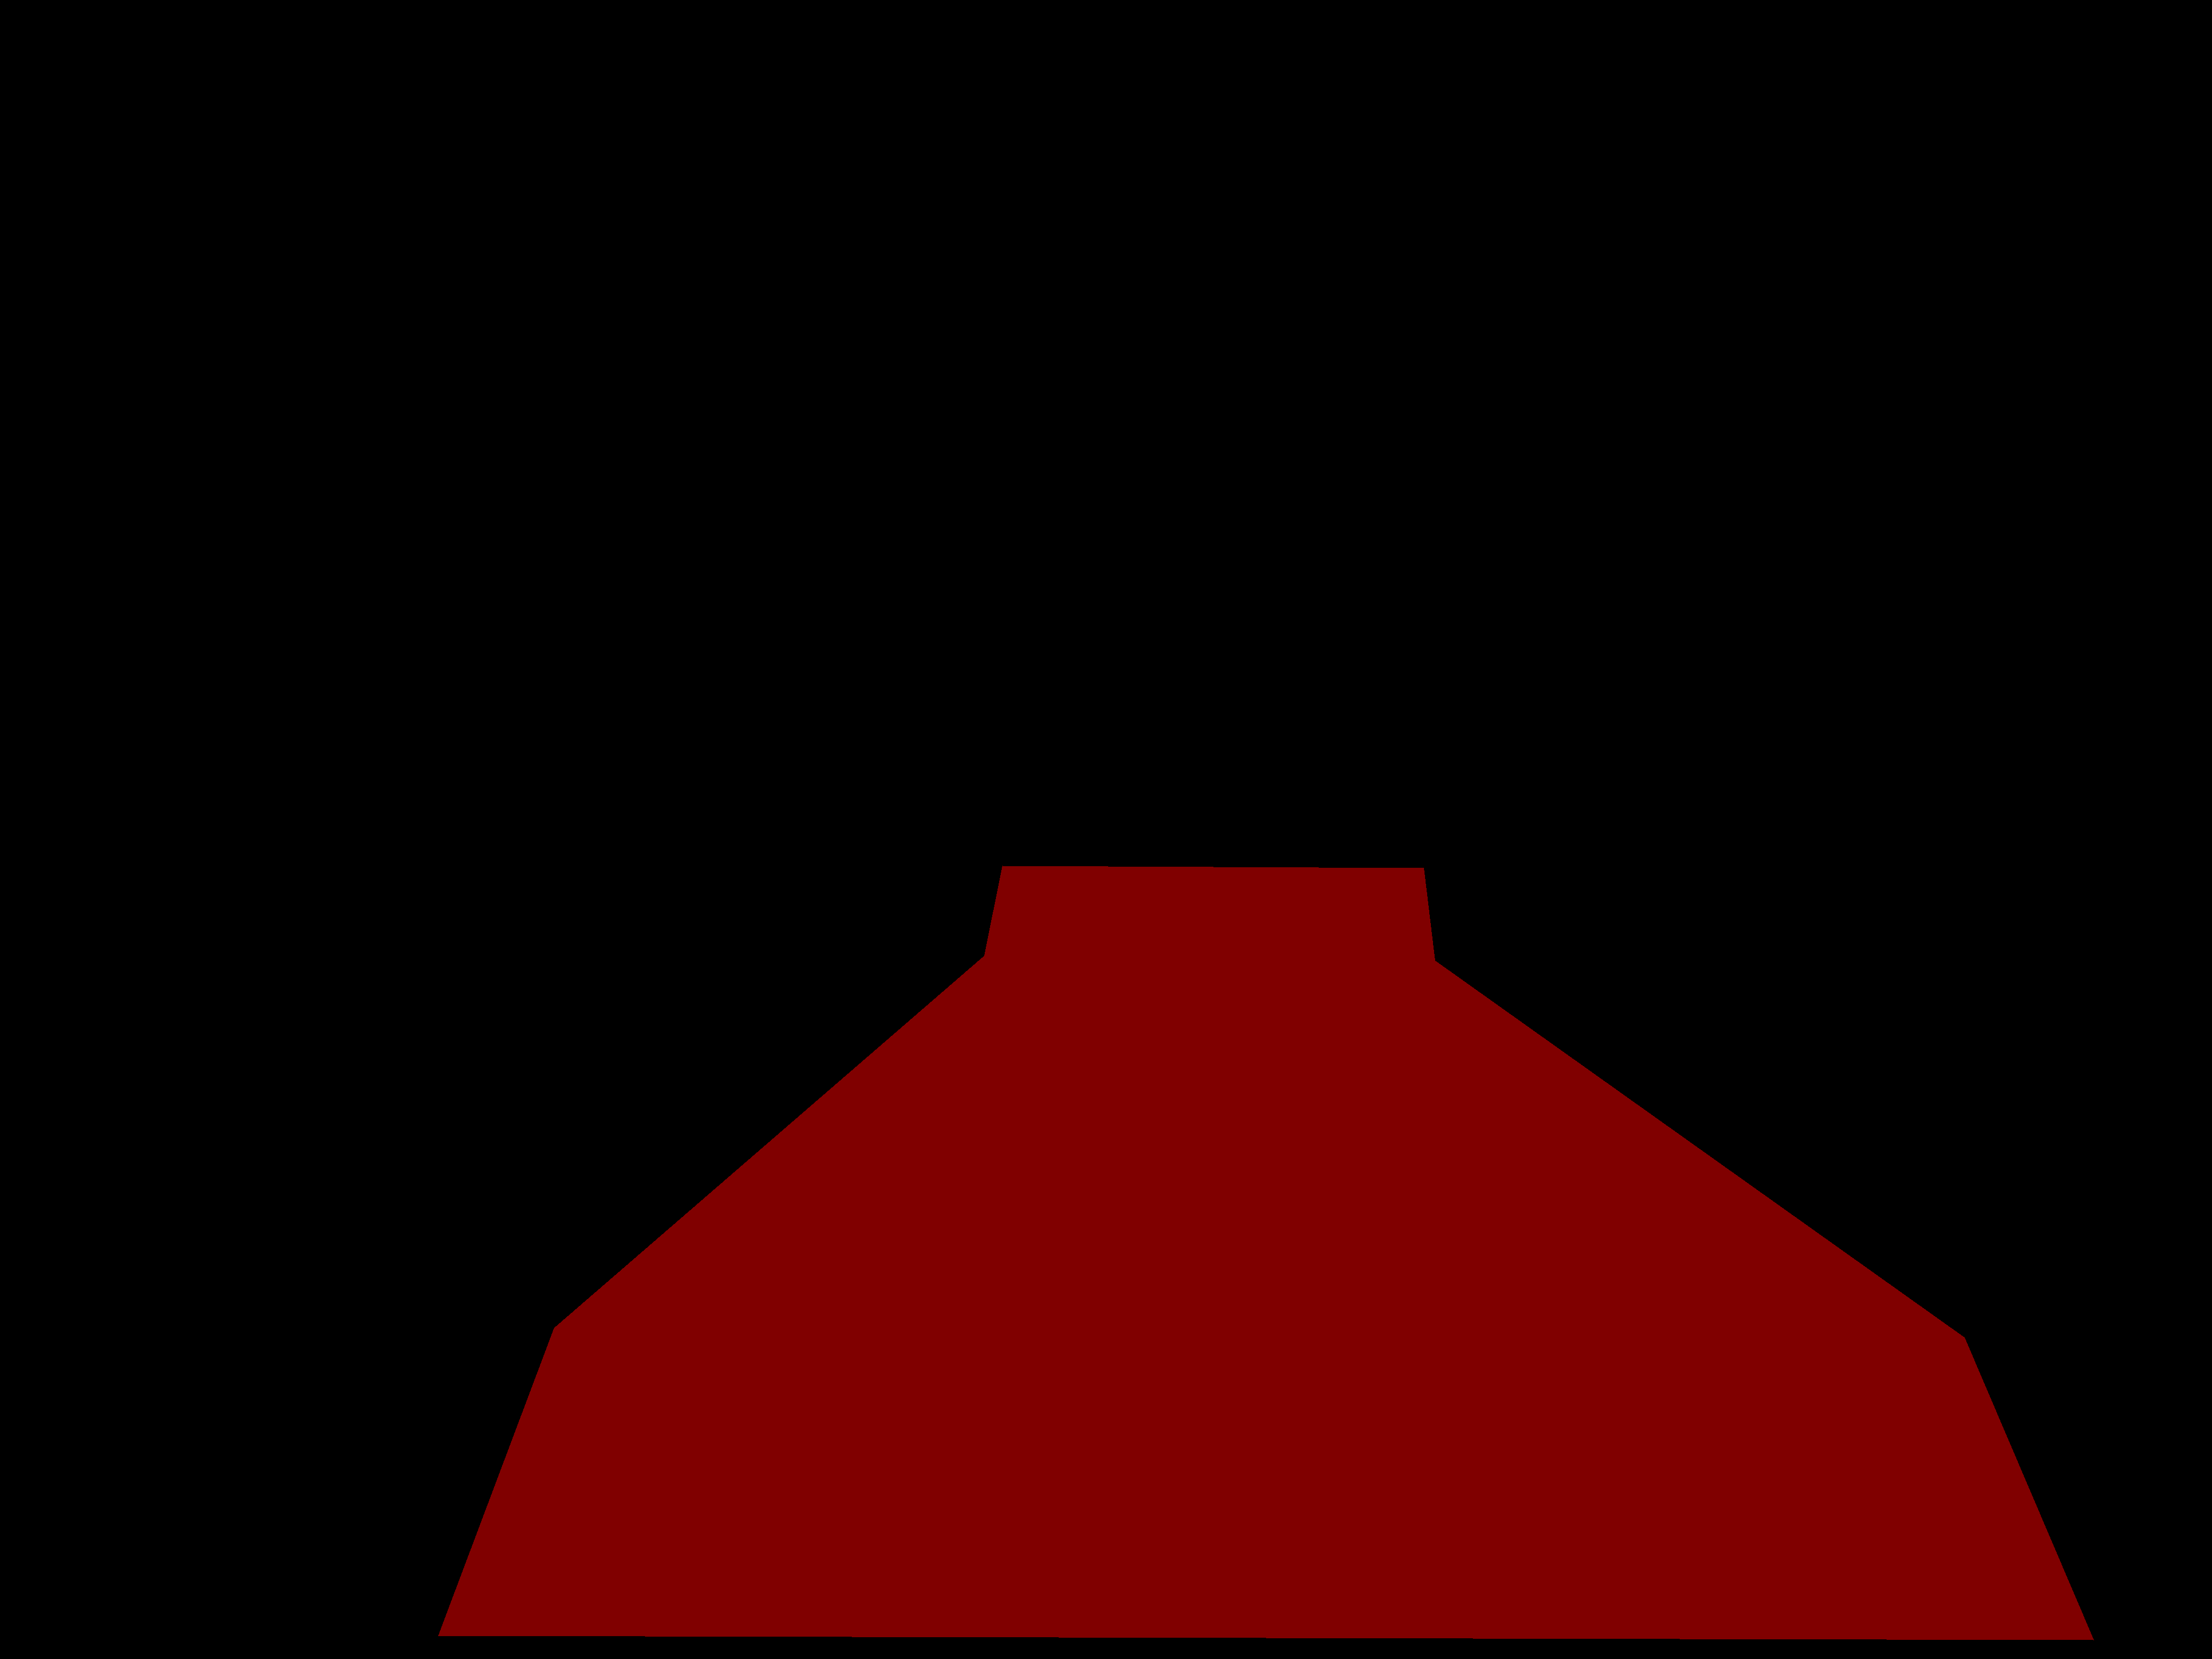stair: (439, 866, 2094, 1640)
